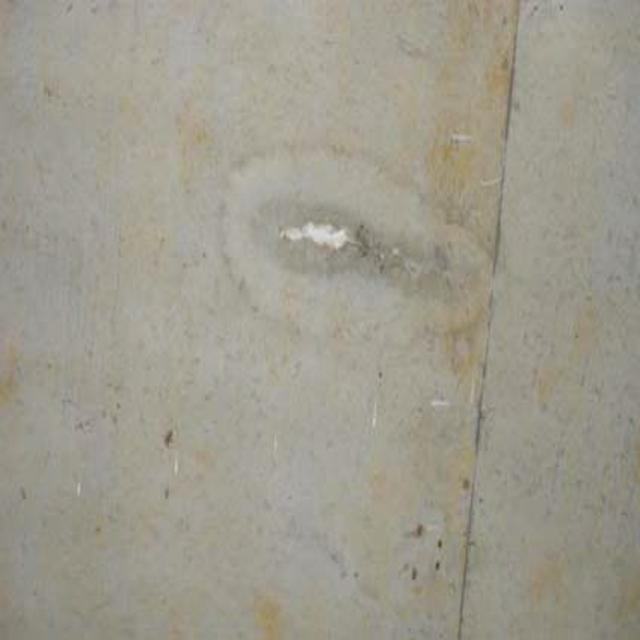freelime: (272, 210, 358, 273)
